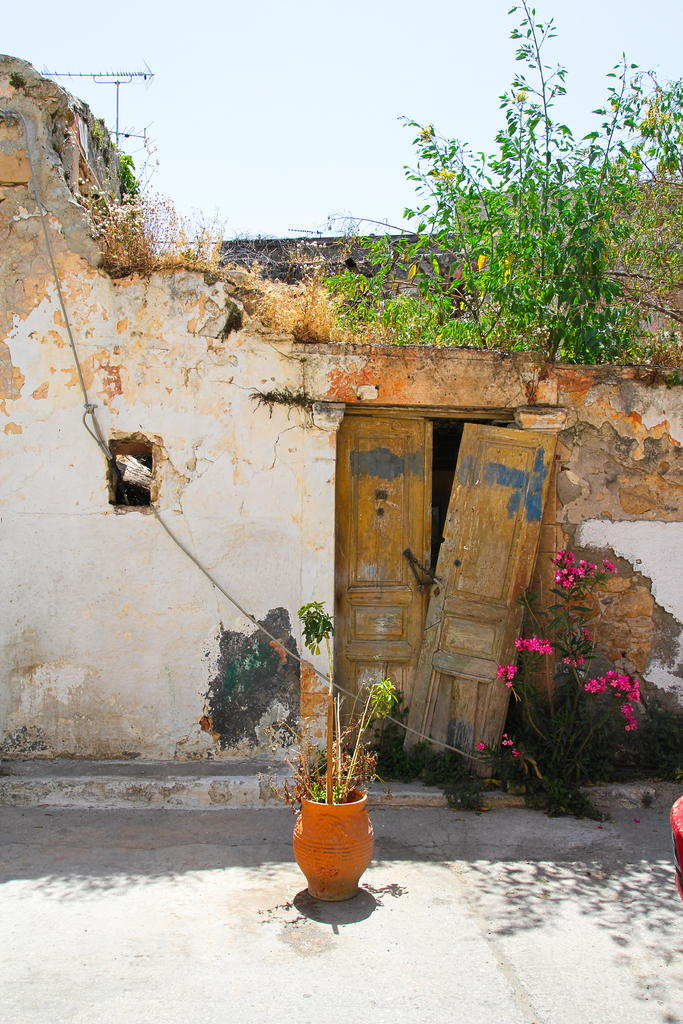Tree: (301, 0, 682, 378)
